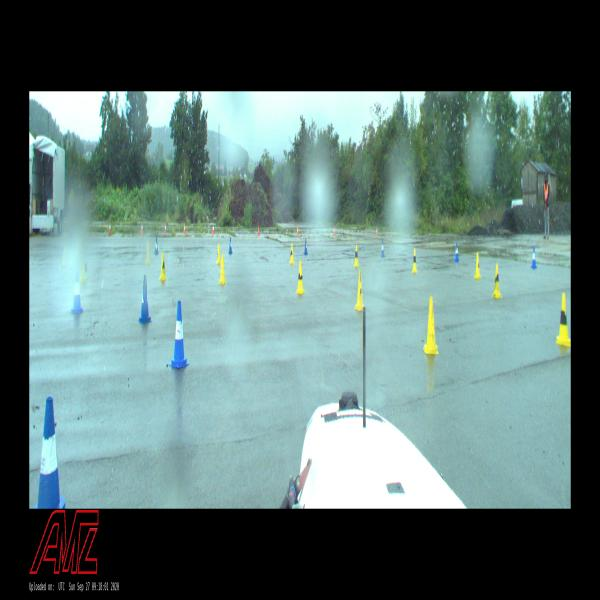blue_cone: (31, 396, 66, 508), (169, 300, 190, 368), (138, 275, 152, 323), (71, 275, 83, 313), (531, 247, 537, 268), (454, 242, 459, 261), (228, 236, 232, 254), (154, 238, 158, 254), (304, 238, 308, 254), (381, 240, 384, 257)
orange_cone: (141, 223, 143, 234), (109, 222, 111, 233), (333, 225, 335, 236), (164, 224, 166, 234), (184, 224, 186, 234), (258, 226, 260, 236), (297, 226, 299, 236), (376, 228, 378, 236), (213, 224, 214, 235)
yellow_cone: (423, 295, 439, 354), (556, 292, 571, 346), (354, 270, 366, 310), (492, 264, 502, 298), (296, 260, 305, 294), (159, 252, 167, 280), (219, 255, 226, 284), (474, 252, 481, 278), (80, 257, 87, 281), (412, 248, 418, 272), (216, 244, 222, 264), (354, 245, 359, 266), (146, 242, 150, 265), (62, 248, 67, 265), (290, 244, 294, 264)
